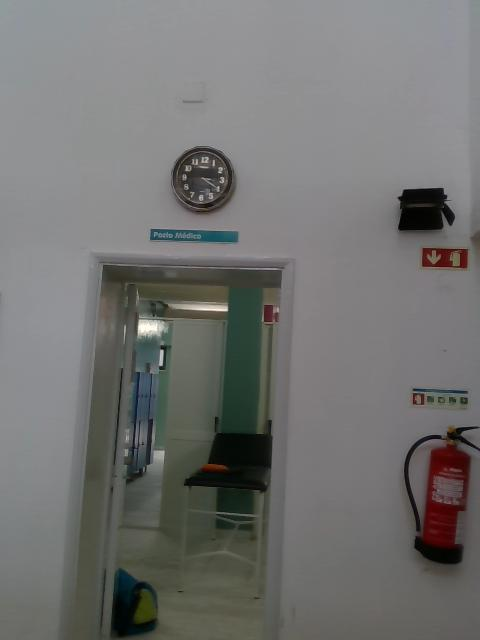open_door: (55, 251, 297, 638)
